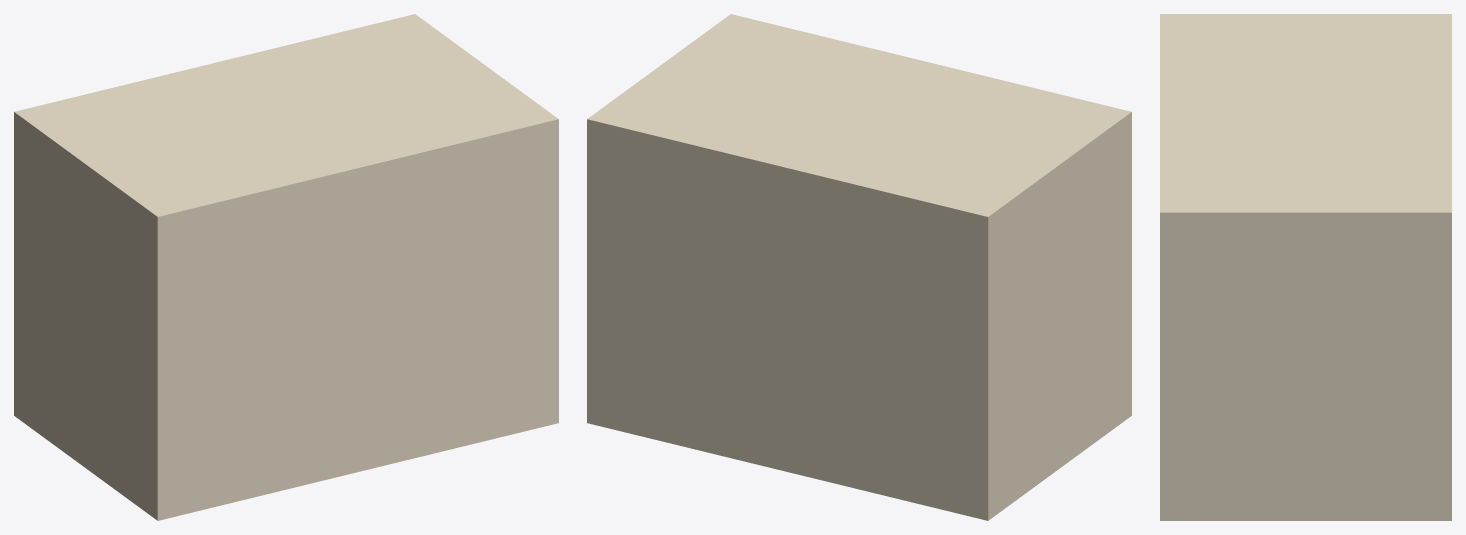
The picture shows the model from 3 angles, left to right: view 1: azimuth 30°, elevation 25°; view 2: azimuth 150°, elevation 25°; view 3: azimuth 270°, elevation 25°; orthographic projection.
Visible parts, largest first — view 1: archive_box_0; view 2: archive_box_0; view 3: archive_box_0.
Boxes of the visible parts, <box> form: archive_box_0: <box>14,14,558,520</box>; archive_box_0: <box>587,14,1131,520</box>; archive_box_0: <box>1160,14,1451,520</box>.
Bounding box in the file's own units: 0.58 × 0.44 × 0.36.
